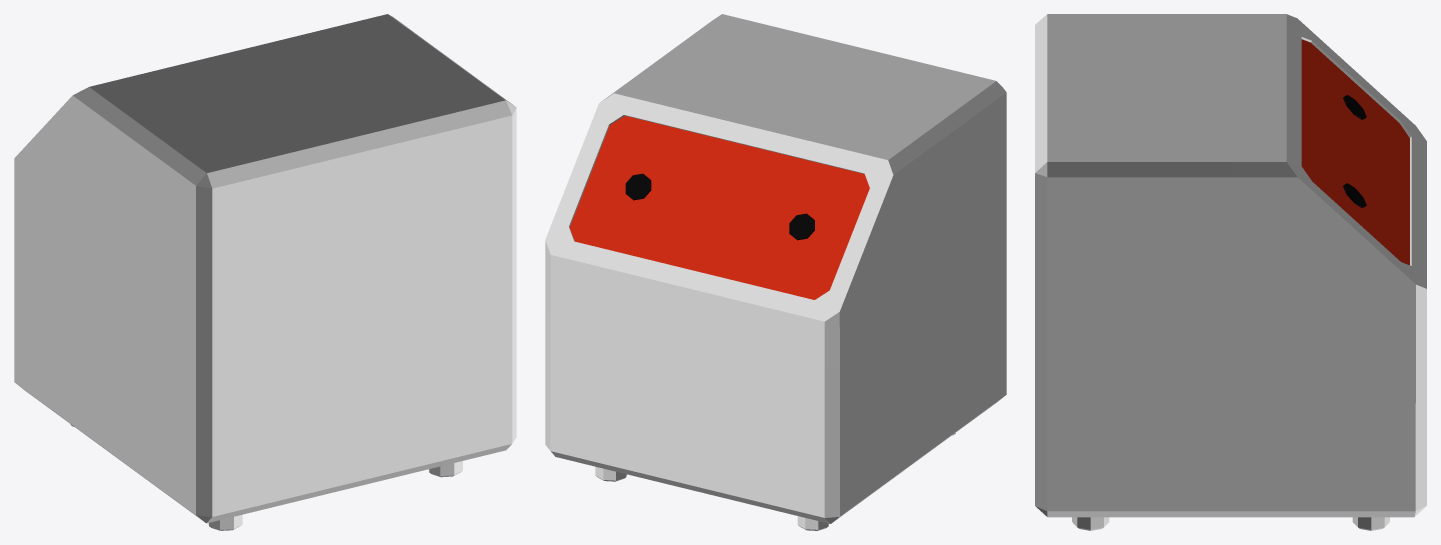
Rendered from Desktop Trash Can.fbx.
3 renders of one model, left to right at view 1: azimuth 30°, elevation 25°; view 2: azimuth 150°, elevation 25°; view 3: azimuth 270°, elevation 25°, orthographic. The views are drawn at different scales.
Parts seen in each view (by area): view 1: Node 0; view 2: Node 0, Node 1; view 3: Node 0, Node 1.
Part boxes in pixels (<box>): Node 0: <box>14,14,516,530</box>; Node 0: <box>545,14,1006,530</box>; Node 1: <box>569,116,869,299</box>; Node 0: <box>1035,14,1426,530</box>; Node 1: <box>1301,39,1409,265</box>.
Bounding box in the file's own units: 0.1788 × 0.1923 × 0.1715.
